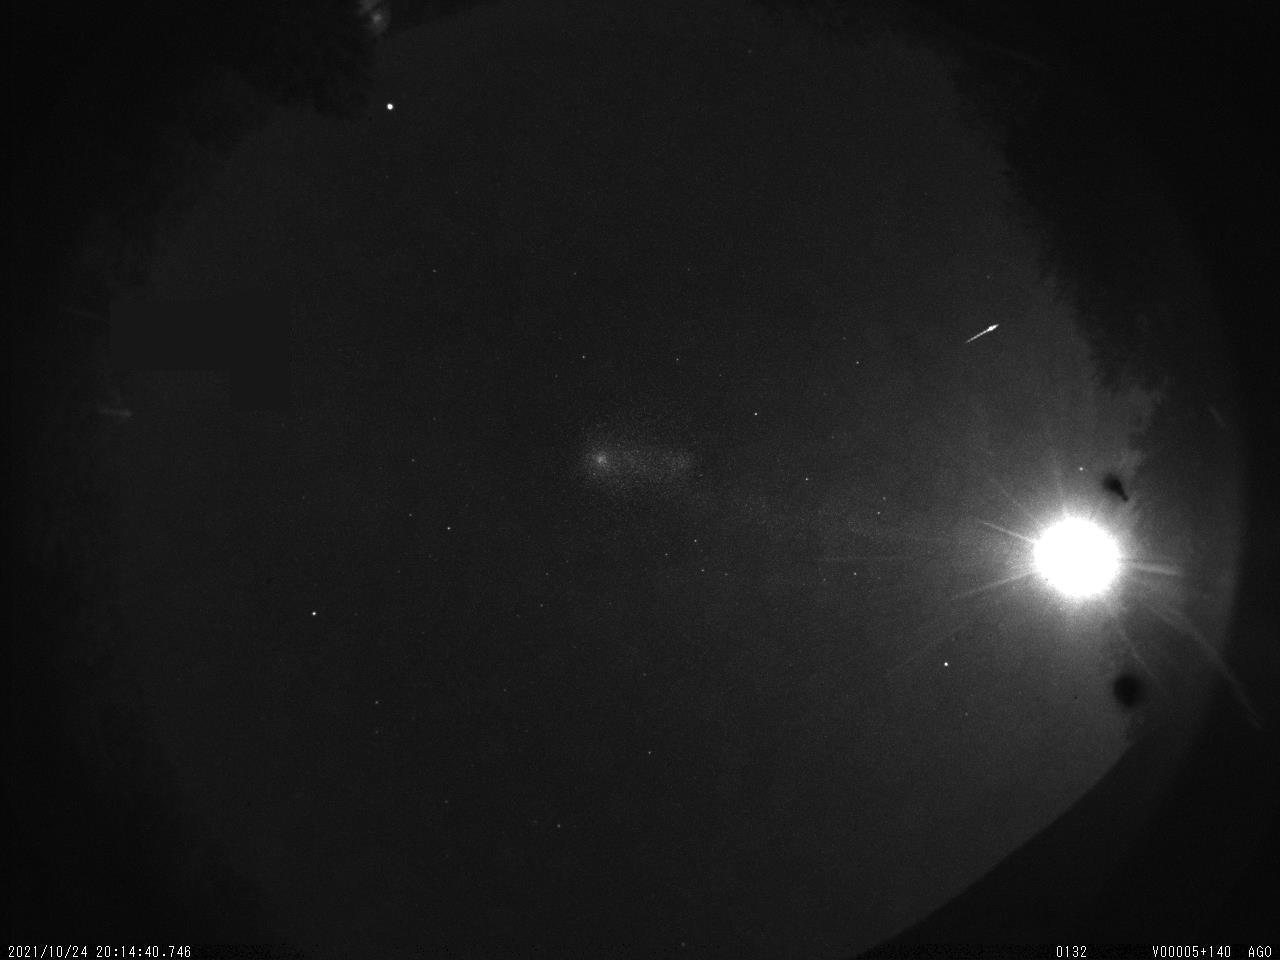Meteor: (961, 318, 1007, 350)
